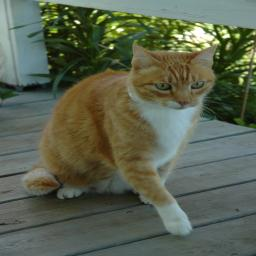catnose: (176, 100, 192, 106)
